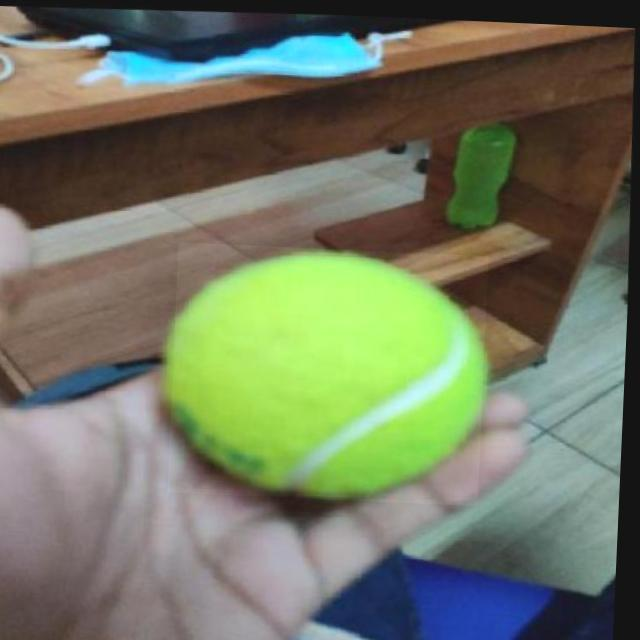-: (172, 240, 491, 502)
